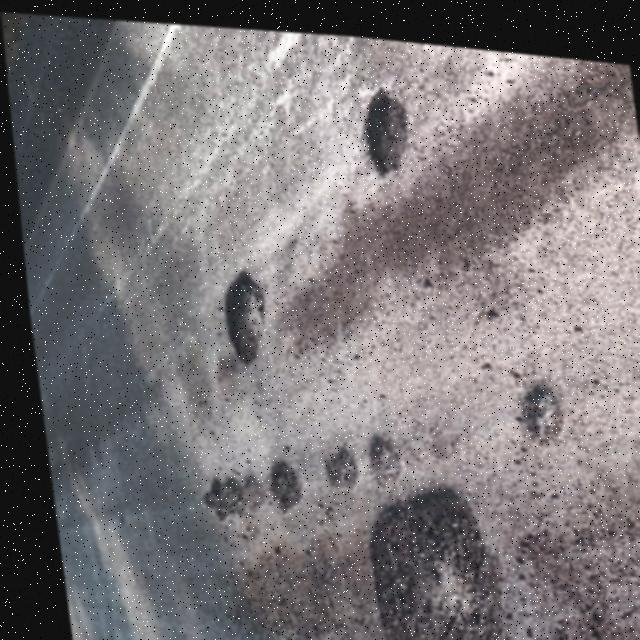pothole: (337, 460, 510, 640), (343, 68, 428, 178), (198, 255, 272, 366), (180, 453, 255, 525), (498, 364, 559, 436), (249, 450, 305, 510), (352, 419, 404, 477), (306, 434, 354, 482)
